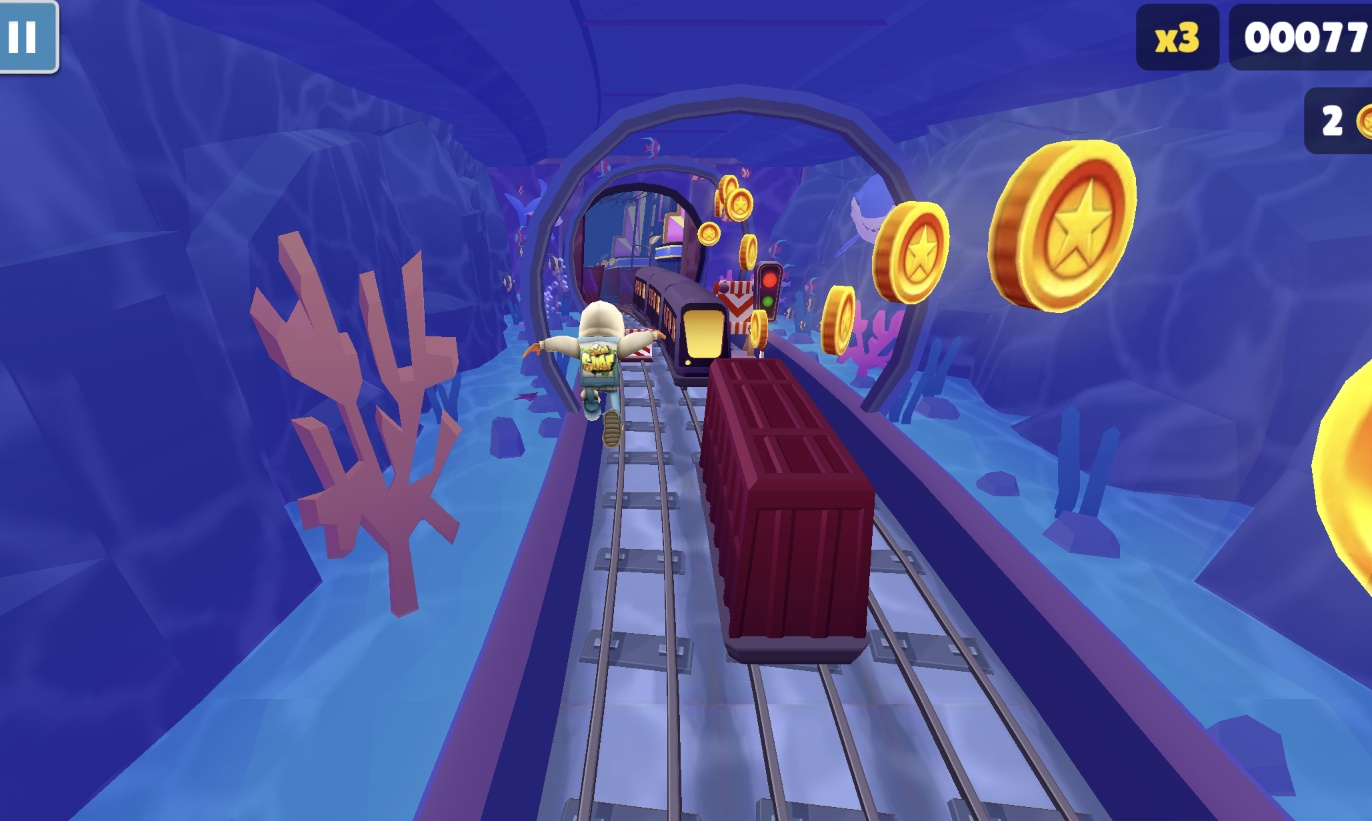ground_barrier: (618, 330, 663, 365)
overhead_barrier: (715, 271, 760, 343)
train: (695, 349, 880, 668), (628, 265, 731, 390), (589, 259, 627, 304)
